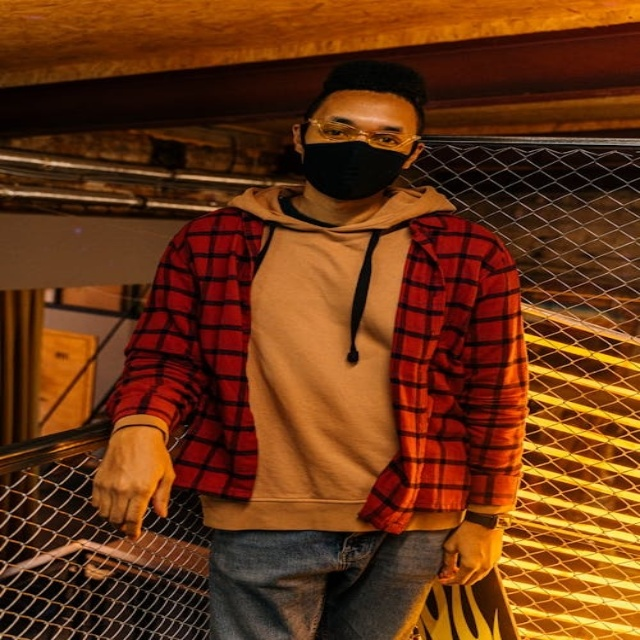Gafas: (304, 118, 420, 151)
Mascara: (297, 131, 412, 198)
Sin_guantes: (84, 431, 182, 538), (435, 518, 515, 592)
